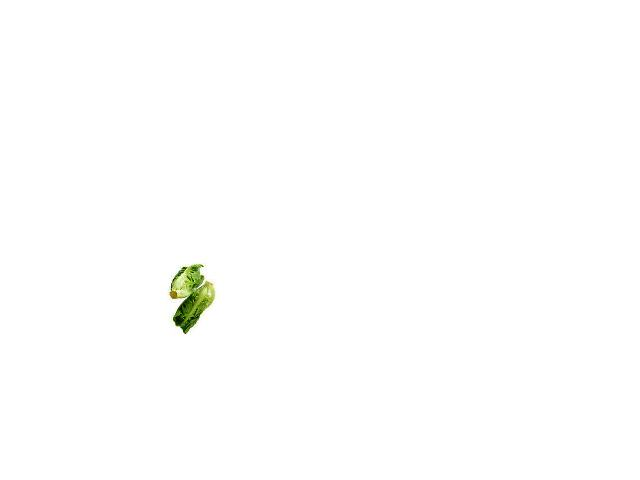lettuce: (161, 262, 216, 331)
